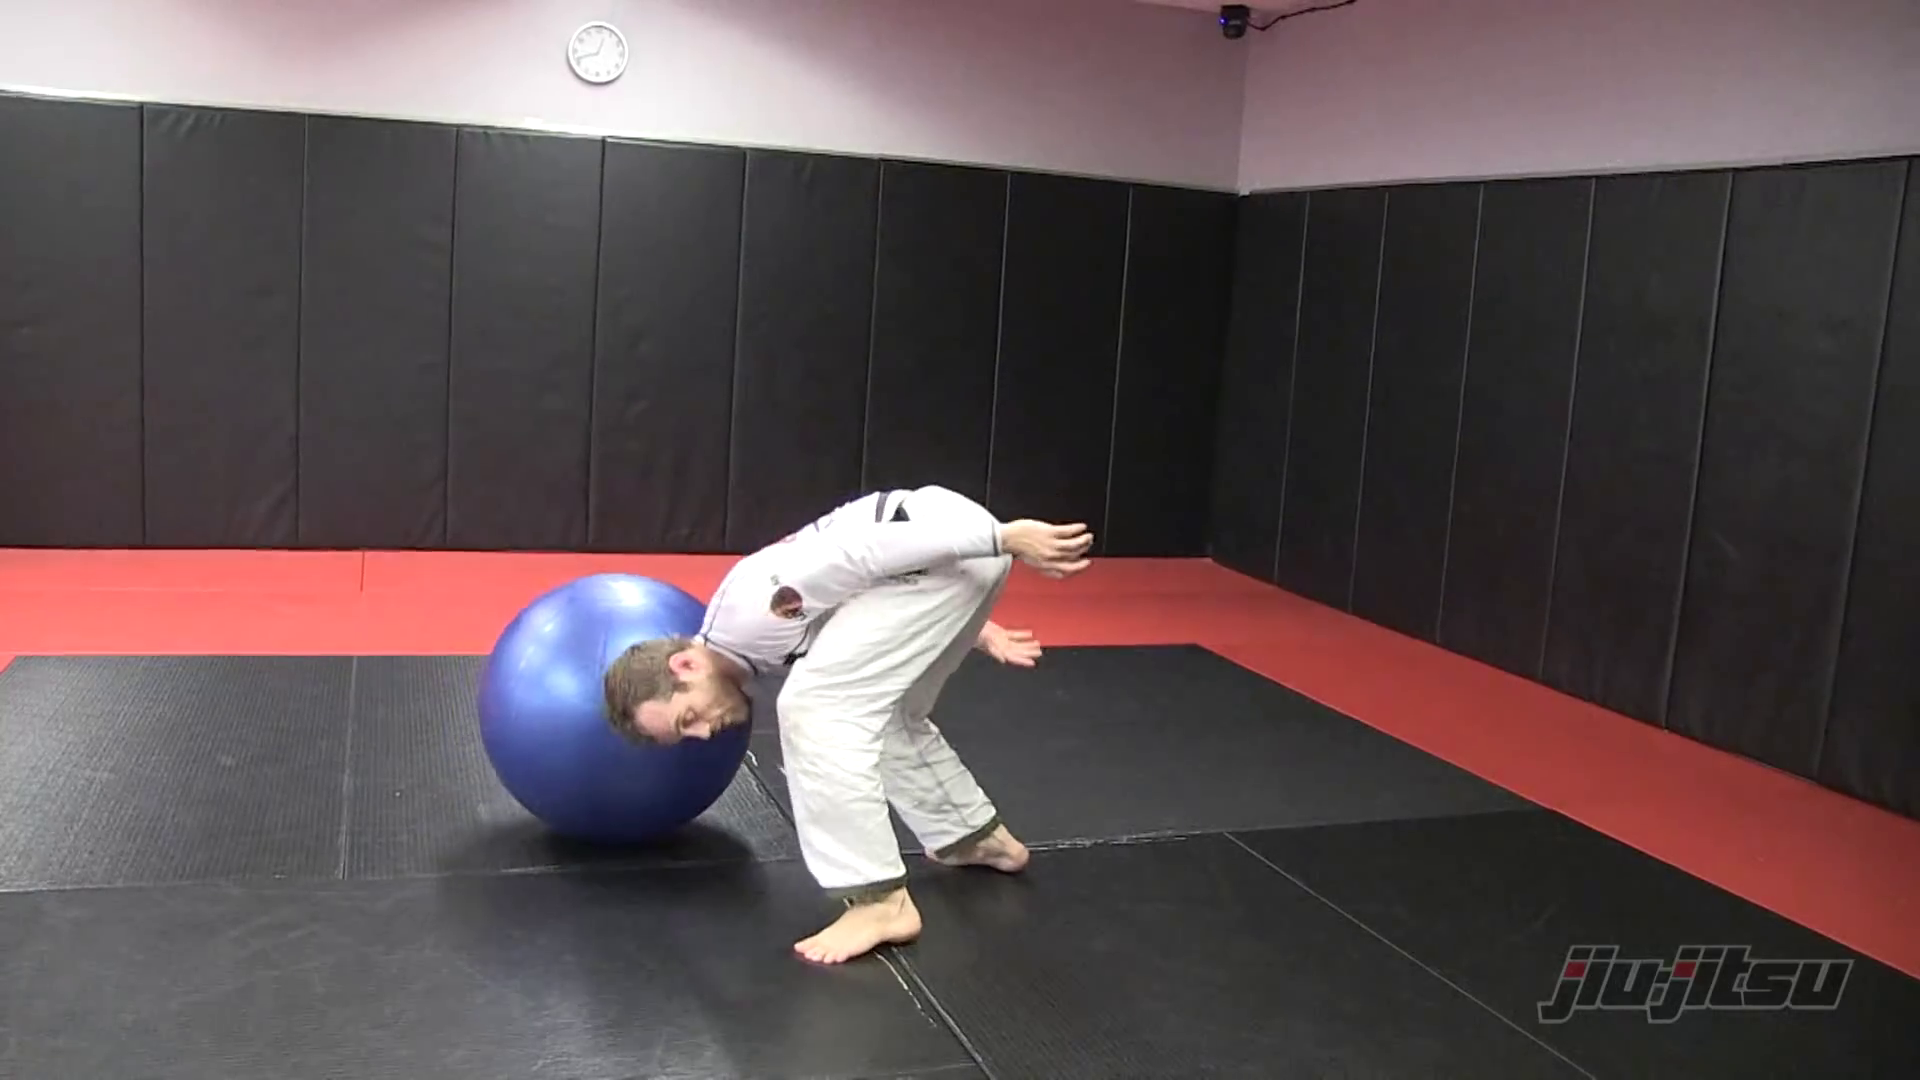yogaball: (460, 556, 765, 865)
